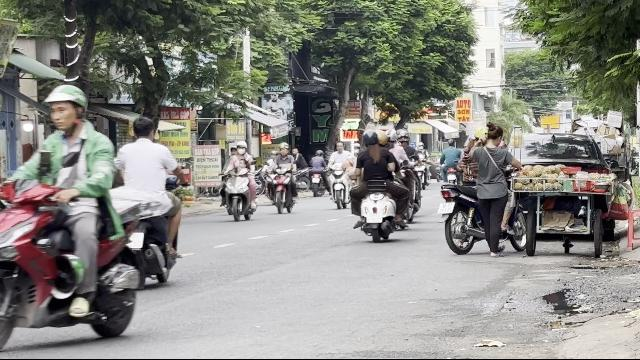helmet: (42, 84, 90, 134), (362, 128, 378, 146), (376, 129, 388, 145), (235, 140, 247, 154)
licenseplate: (438, 202, 454, 213), (366, 214, 382, 222)
motorcyclist: (1, 82, 148, 352), (106, 115, 186, 287), (349, 127, 413, 242), (217, 140, 259, 221)
nohelmet: (130, 116, 156, 140)
